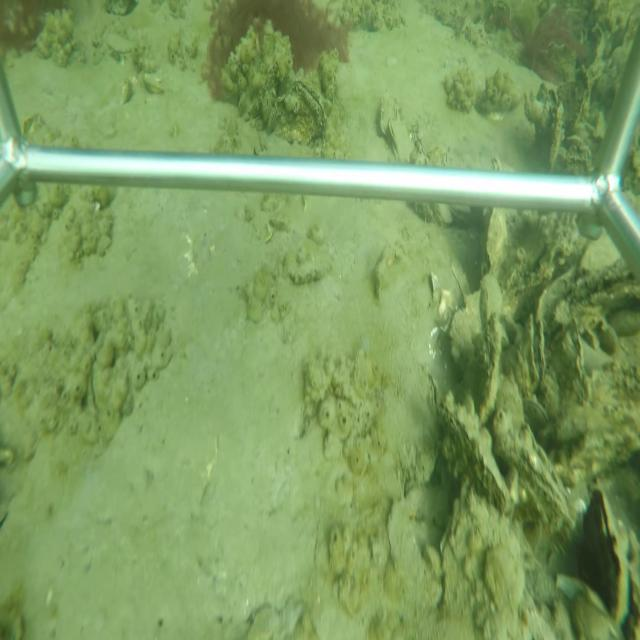Oyster-Closed: (436, 400, 511, 510), (493, 428, 573, 528), (581, 483, 630, 631), (479, 316, 502, 423), (386, 103, 417, 163)
Oyster-Indeterminate: (445, 290, 483, 385), (483, 208, 510, 277)
Oyster-Open: (286, 76, 329, 149), (522, 313, 550, 392)
